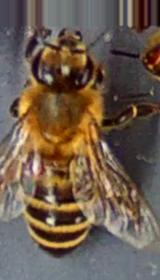varroa_mite: (20, 150, 56, 178)
